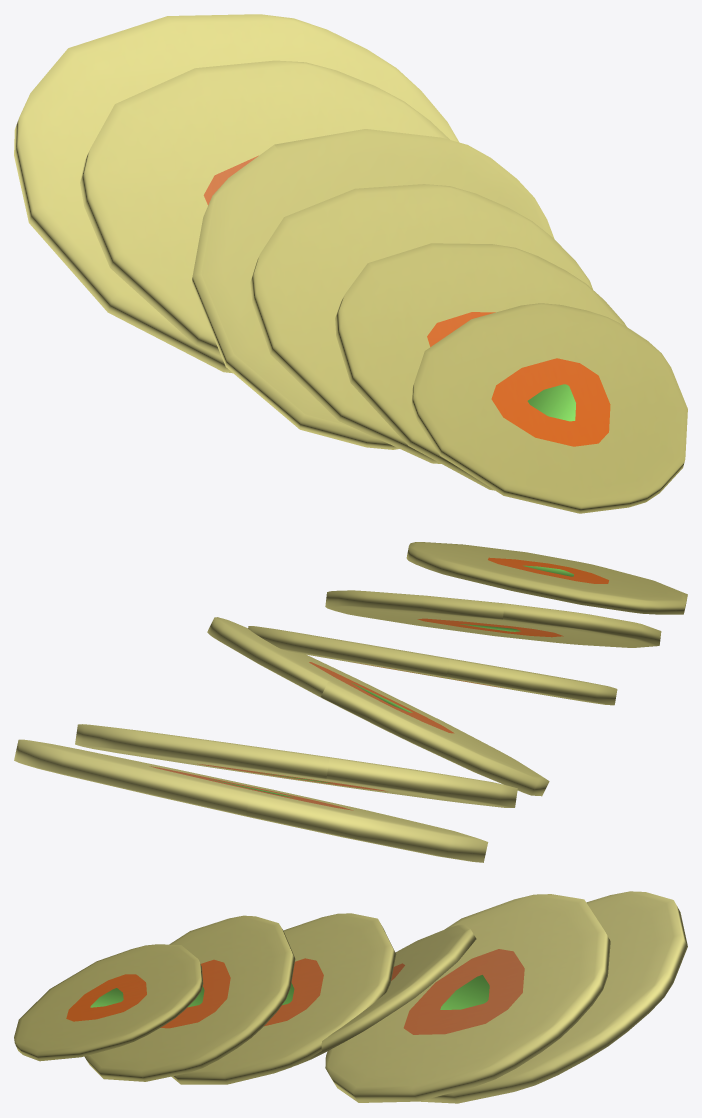
Rendered from GarlicChopped.glb.
3 views of the same model, one above another, from view 1: azimuth 30°, elevation 25°; view 2: azimuth 150°, elevation 25°; view 3: azimuth 270°, elevation 25° (orthographic). The views are drawn at different scales.
Parts seen in each view (by area): view 1: GarlicChopped; view 2: GarlicChopped; view 3: GarlicChopped.
Boxes of the visible parts, x1=… form: GarlicChopped: x1=14, y1=14, x2=687, y2=513; GarlicChopped: x1=14, y1=542, x2=687, y2=862; GarlicChopped: x1=14, y1=891, x2=687, y2=1103.
Bounding box in the file's own units: 0.2394 × 0.1158 × 0.4732.
Materials: 1 (1 with a texture image).
